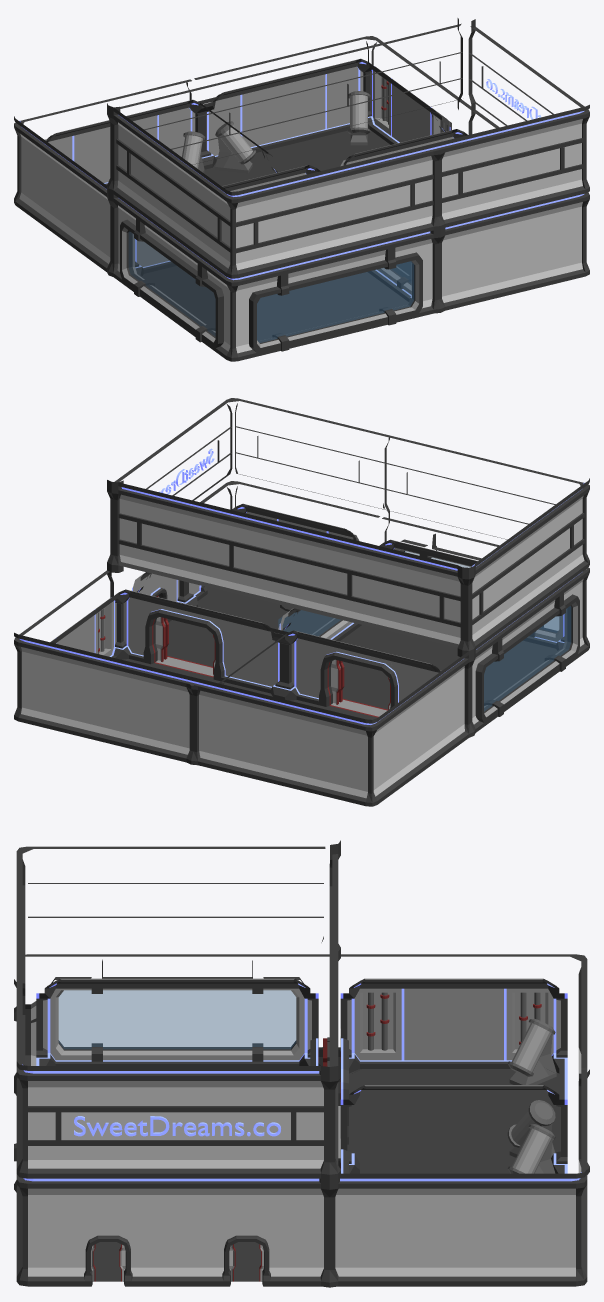
Rendered from sceneDreamCo.glb.
The picture shows the model from 3 angles, top to bottom: view 1: azimuth 30°, elevation 25°; view 2: azimuth 150°, elevation 25°; view 3: azimuth 270°, elevation 25°; orthographic projection. The views are drawn at different scales.
Parts seen in each view (by area): view 1: external_frame.011, external_frame, FloorPlan, frame_wall_corner.011, external_frame.010, external_frame.007, Cube, frame_wall_corner.004, frame_wall_corner.006, external_frame.001, frame_wall_corner.005, external_frame.009 (+22 smaller); view 2: external_frame.014, external_frame.007, external_frame.006, FloorPlan, external_frame.011, Cube, frame_wall_corner.009, frame_wall_corner.006, external_frame.009, external_frame.003, external_frame.016, frame_roof (+16 smaller); view 3: external_frame, external_frame.006, external_frame.010, FloorPlan, frame_wall_corner.006, frame_wall_corner.001, Cube, external_frame.009, frame_roof, frame_bar.011, frame_bar.005, external_frame.016 (+20 smaller).
Part boxes in pixels (x1,y1,x2,y2): external_frame.011: (113,114,439,274); external_frame: (442,107,589,310); FloorPlan: (142,130,411,340); frame_wall_corner.011: (249,247,422,352); external_frame.010: (437,26,589,223); external_frame.007: (14,79,191,271); Cube: (116,52,582,253); frame_wall_corner.004: (209,66,358,155); frame_wall_corner.006: (120,218,223,347); external_frame.001: (231,233,433,361); frame_wall_corner.005: (45,107,190,182); external_frame.009: (14,116,589,280); external_frame.014: (118,489,460,647); external_frame.007: (194,658,468,806); external_frame.006: (14,570,192,762); FloorPlan: (122,587,556,719); external_frame.011: (382,434,589,645); Cube: (118,426,584,627); frame_wall_corner.009: (128,597,441,701); frame_wall_corner.006: (475,593,579,722); external_frame.009: (14,561,589,724); external_frame.003: (472,568,589,732); external_frame.016: (118,478,589,570); frame_roof: (50,503,477,684); external_frame: (16,1174,323,1286); external_frame.006: (335,1070,587,1286); external_frame.010: (16,978,323,1173); FloorPlan: (92,1069,559,1281); frame_wall_corner.006: (50,959,304,1061); frame_wall_corner.001: (354,988,553,1060); Cube: (22,883,332,1145); external_frame.009: (16,1169,587,1181); frame_roof: (45,978,558,1094); frame_bar.011: (55,983,299,1065); frame_bar.005: (360,983,548,1068); external_frame.016: (16,1061,320,1073).
Size of what is drawn, in the model's own units: 19.82 by 8.8 by 20.82.
